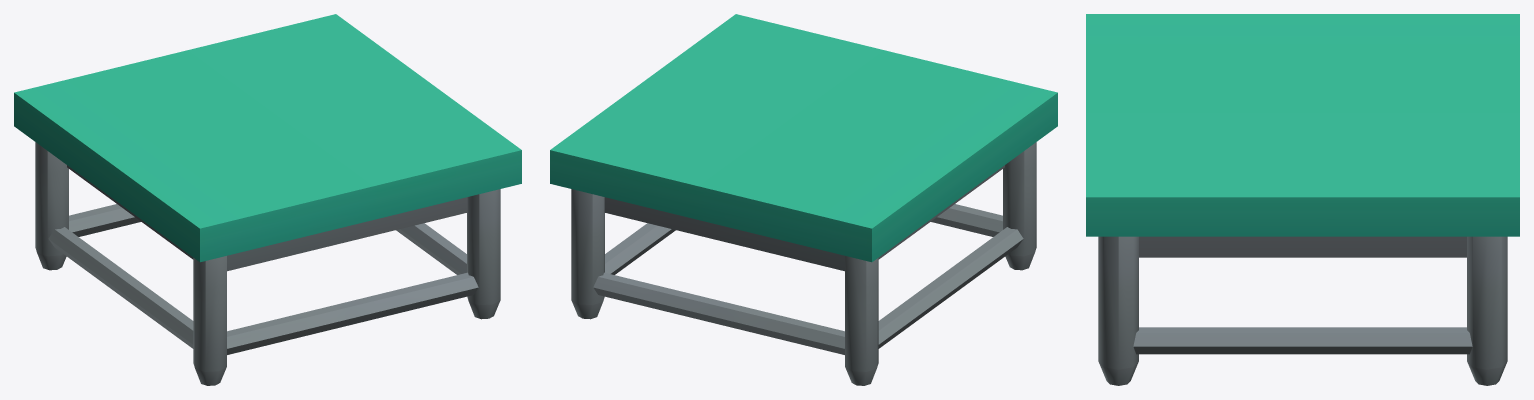
File: kkr.kitchentable_b.glb
3 views of the same model, side by side, from view 1: azimuth 30°, elevation 25°; view 2: azimuth 150°, elevation 25°; view 3: azimuth 270°, elevation 25° (orthographic). The views are drawn at different scales.
Visible parts, largest first — view 1: kitchentable_B; view 2: kitchentable_B; view 3: kitchentable_B.
Boxes of the visible parts, bbox=[...] form: kitchentable_B: bbox=[14, 14, 521, 385]; kitchentable_B: bbox=[550, 14, 1057, 385]; kitchentable_B: bbox=[1086, 14, 1519, 385].
Size of the model in its own units: 1.49 by 0.7479 by 1.49.
1 material, 1 textured.
